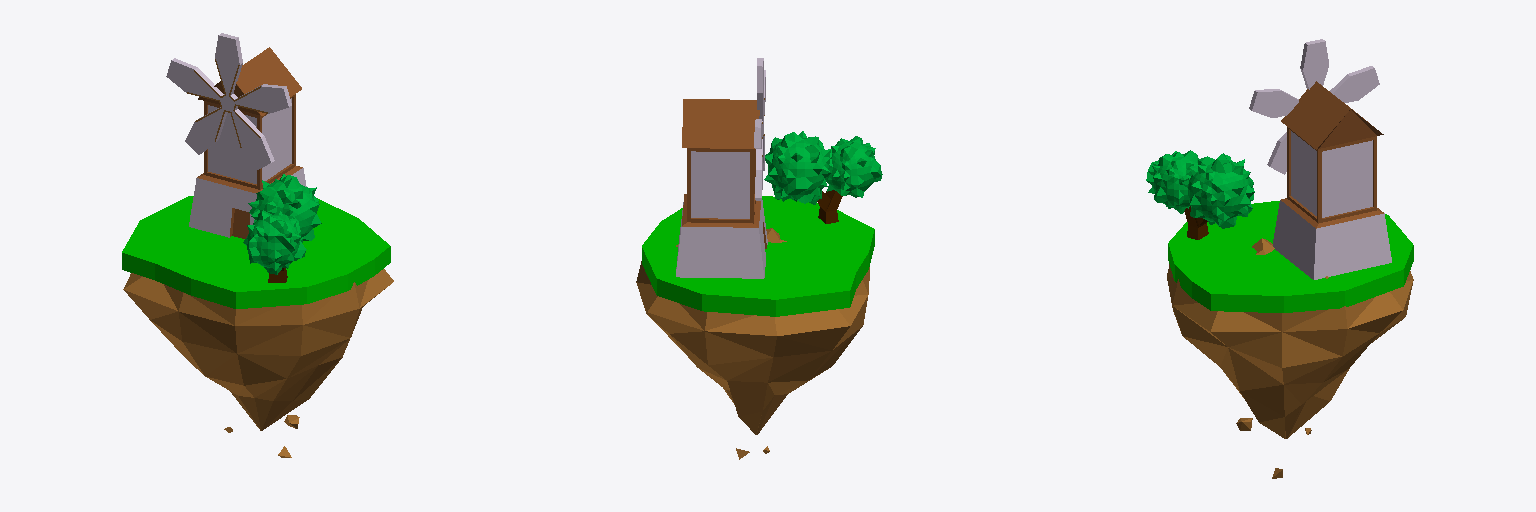
Rendered from leviet0.obj.
3 views of the same model, side by side, from view 1: azimuth 30°, elevation 25°; view 2: azimuth 150°, elevation 25°; view 3: azimuth 270°, elevation 25° (orthographic).
Visible parts, largest first — view 1: Island, Green_platform, Mill, propeller, Tree; view 2: Green_platform, Island, Mill, Tree, propeller; view 3: Island, Mill, Green_platform, Tree, propeller.
Part boxes in pixels (x1,y1,x2,y2): Island: (123, 269, 393, 457); Green_platform: (122, 196, 390, 308); Mill: (189, 47, 306, 238); propeller: (166, 33, 291, 169); Tree: (243, 174, 321, 282); Green_platform: (642, 196, 874, 316); Island: (636, 228, 869, 459); Mill: (676, 99, 767, 278); Tree: (764, 131, 882, 223); propeller: (754, 58, 765, 200); Island: (1167, 238, 1413, 478); Mill: (1273, 81, 1391, 279); Green_platform: (1168, 201, 1413, 312); Tree: (1146, 150, 1254, 239); propeller: (1249, 39, 1379, 174).
Bounding box in the file's own units: 105 × 195 × 113.